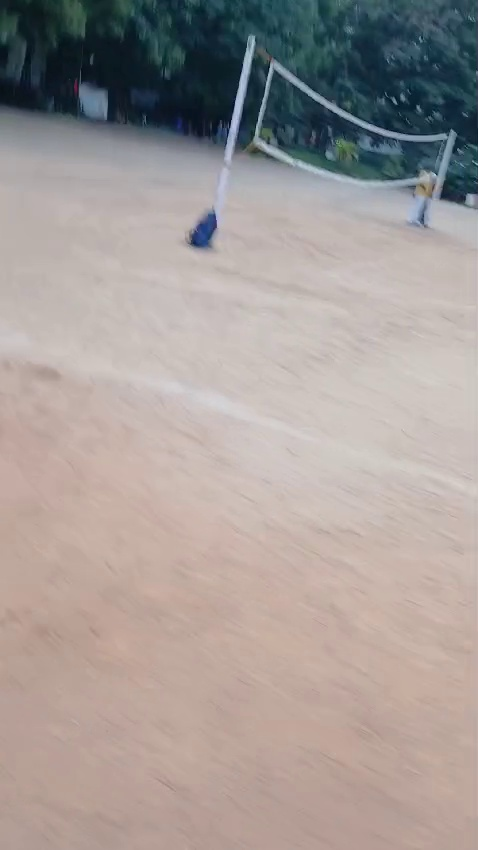bag: (183, 203, 219, 257)
